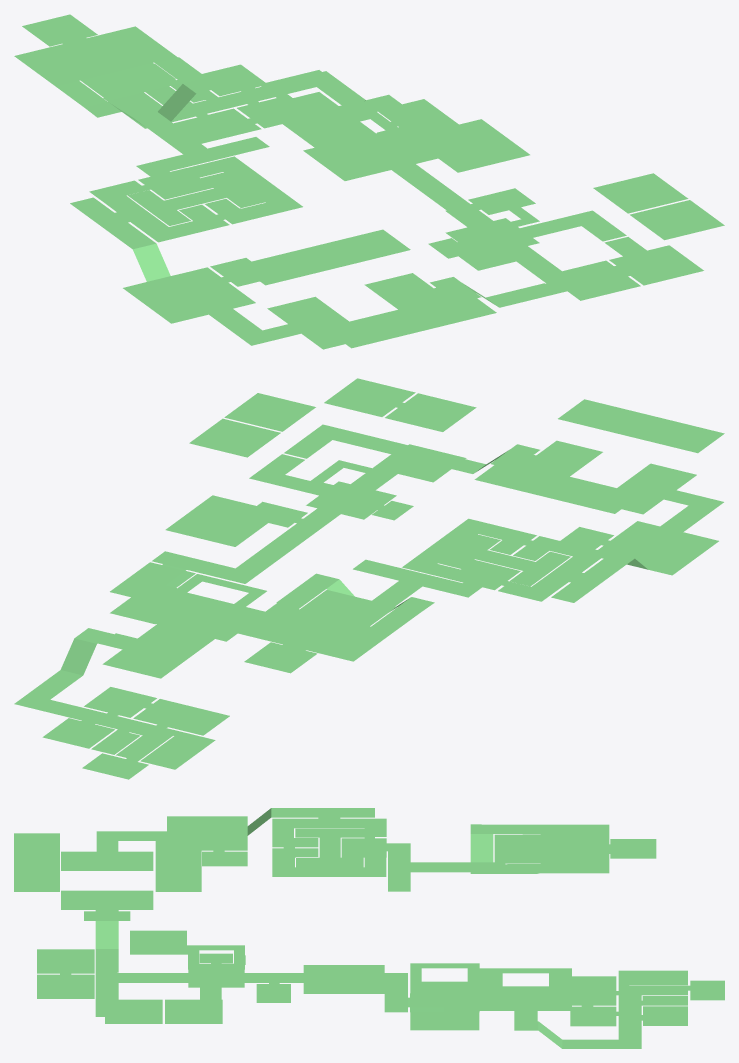
File: unity_map_3_NAV.fbx
The picture shows the model from 3 angles, top to bottom: view 1: azimuth 30°, elevation 25°; view 2: azimuth 150°, elevation 25°; view 3: azimuth 270°, elevation 25°; orthographic projection. The views are drawn at different scales.
Parts seen in each view (by area): view 1: Nav_mesh; view 2: Nav_mesh; view 3: Nav_mesh.
Part boxes in pixels (x1=…): Nav_mesh: x1=14, y1=14, x2=724, y2=349; Nav_mesh: x1=14, y1=378, x2=724, y2=779; Nav_mesh: x1=14, y1=808, x2=724, y2=1048.
Size of the model in its own units: 63628 by 13012 by 92142.
